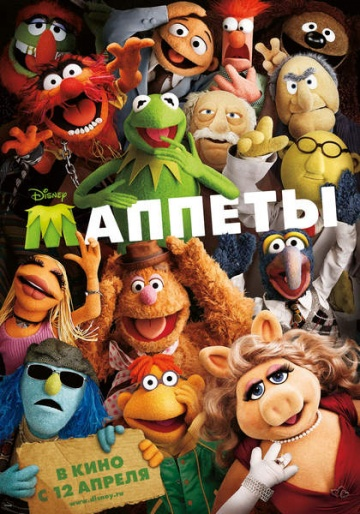kermit: (123, 92, 191, 157)
